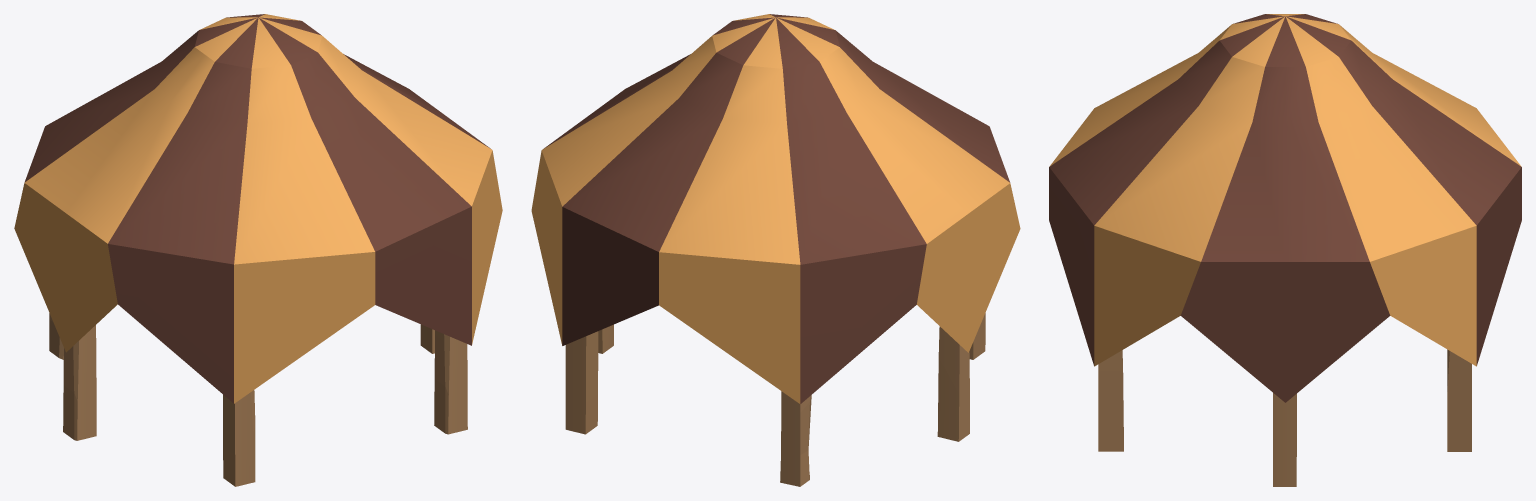
Rendered from Tent_C.fbx.
The picture shows the model from 3 angles, left to right: view 1: azimuth 30°, elevation 25°; view 2: azimuth 150°, elevation 25°; view 3: azimuth 270°, elevation 25°; orthographic projection.
Visible parts, largest first — view 1: Tent_C; view 2: Tent_C; view 3: Tent_C.
Boxes of the visible parts, bbox=[...] form: Tent_C: bbox=[14, 14, 502, 486]; Tent_C: bbox=[531, 14, 1020, 486]; Tent_C: bbox=[1049, 14, 1521, 486].
Bounding box in the file's own units: 244 × 226 × 257.
